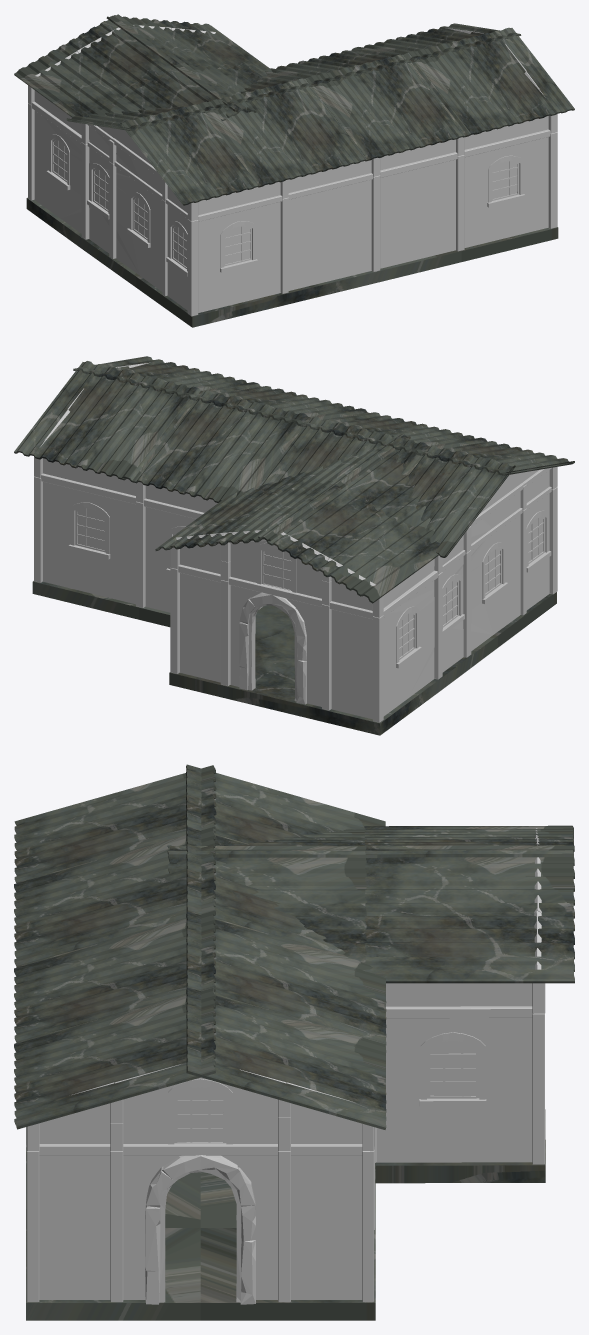
File: House5.fbx
The picture shows the model from 3 angles, top to bottom: view 1: azimuth 30°, elevation 25°; view 2: azimuth 150°, elevation 25°; view 3: azimuth 270°, elevation 25°; orthographic projection. The views are drawn at different scales.
Parts seen in each view (by area): view 1: House5_LOD0; view 2: House5_LOD0; view 3: House5_LOD0.
Part boxes in pixels (left/top/right/bottom): House5_LOD0: left=14, top=14, right=574, bottom=327; House5_LOD0: left=14, top=356, right=574, bottom=735; House5_LOD0: left=14, top=764, right=574, bottom=1320.
Size of what is drawn, in the model's own units: 1002 by 405 by 782.
